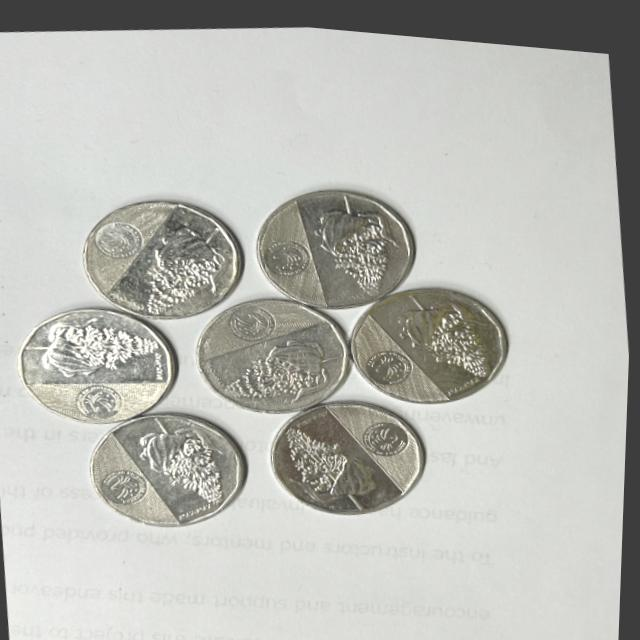10_New_Back: (18, 305, 183, 389), (280, 409, 392, 529), (378, 273, 502, 381), (134, 215, 254, 321), (299, 177, 409, 287), (130, 409, 240, 511), (216, 333, 344, 402)
